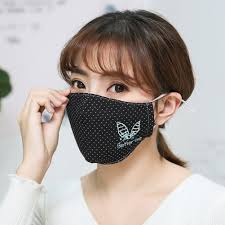with-mask: (62, 24, 182, 166)
